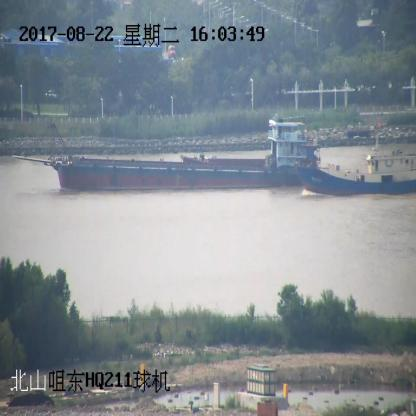Bulk Carrier: (13, 114, 323, 187)
